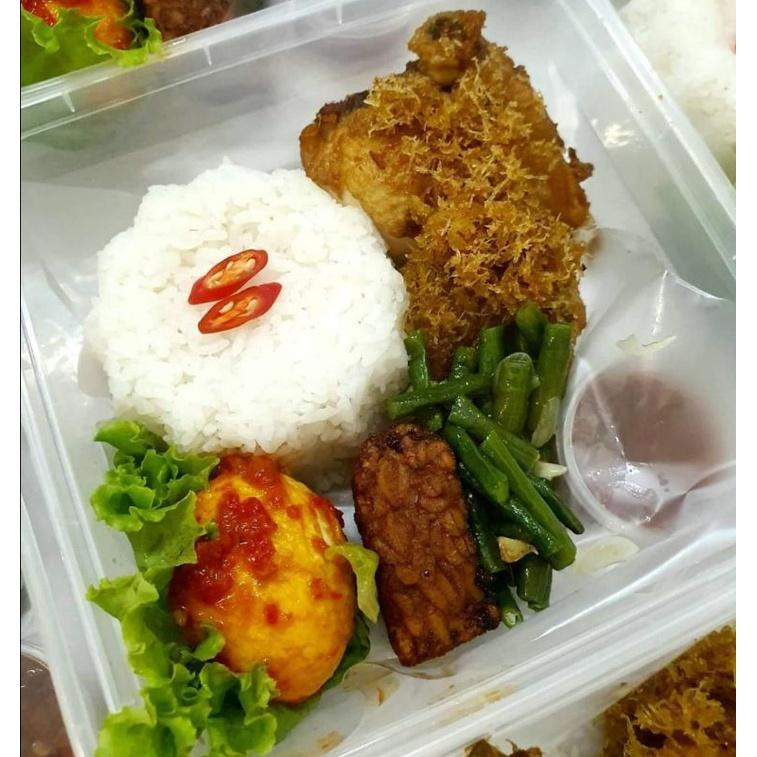buah_sayur_lainnya: (138, 650, 215, 730)
buah_sayur_vitA: (474, 374, 553, 540)
daging: (413, 104, 560, 268)
kacang_legume: (389, 463, 450, 639)
makanan_berpati: (142, 206, 372, 419)
telur: (228, 488, 326, 658)
